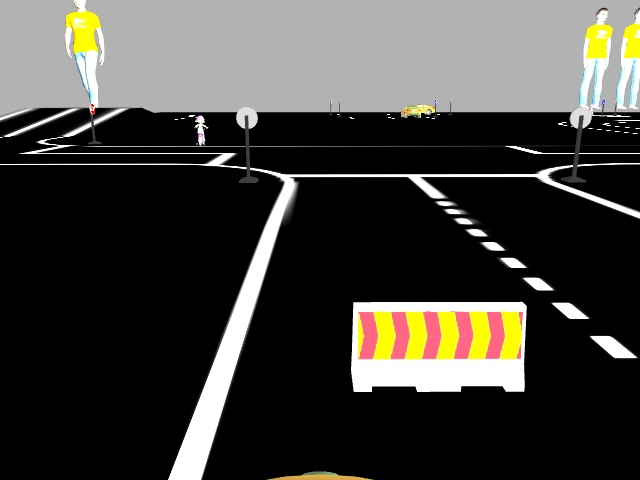ClosedRoadStand: (352, 303, 524, 390)
